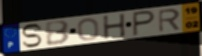B: (44, 20, 71, 47)
H: (102, 12, 127, 40)
O: (77, 17, 101, 42)
P: (132, 9, 157, 37)
R: (157, 8, 182, 34)
S: (20, 23, 44, 48)
